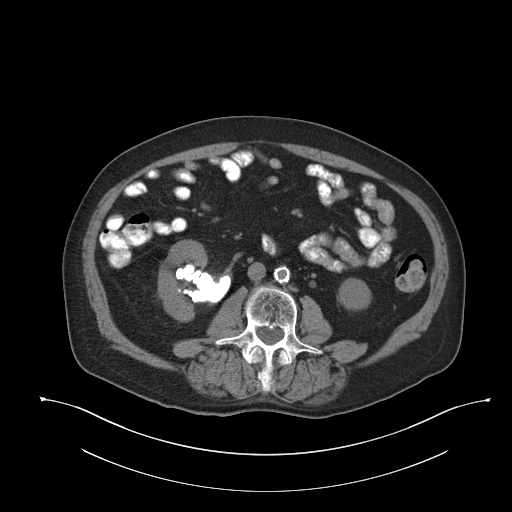Lesion: (174, 259, 235, 311)
